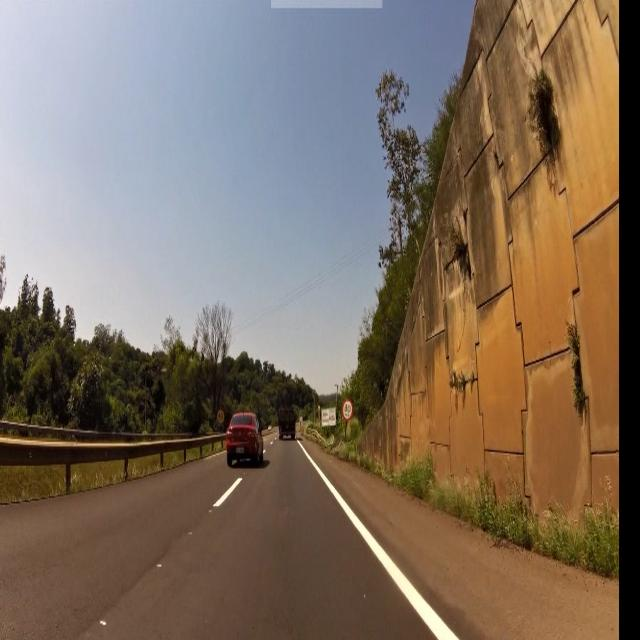R-19: (344, 400, 352, 422), (218, 406, 224, 430)
